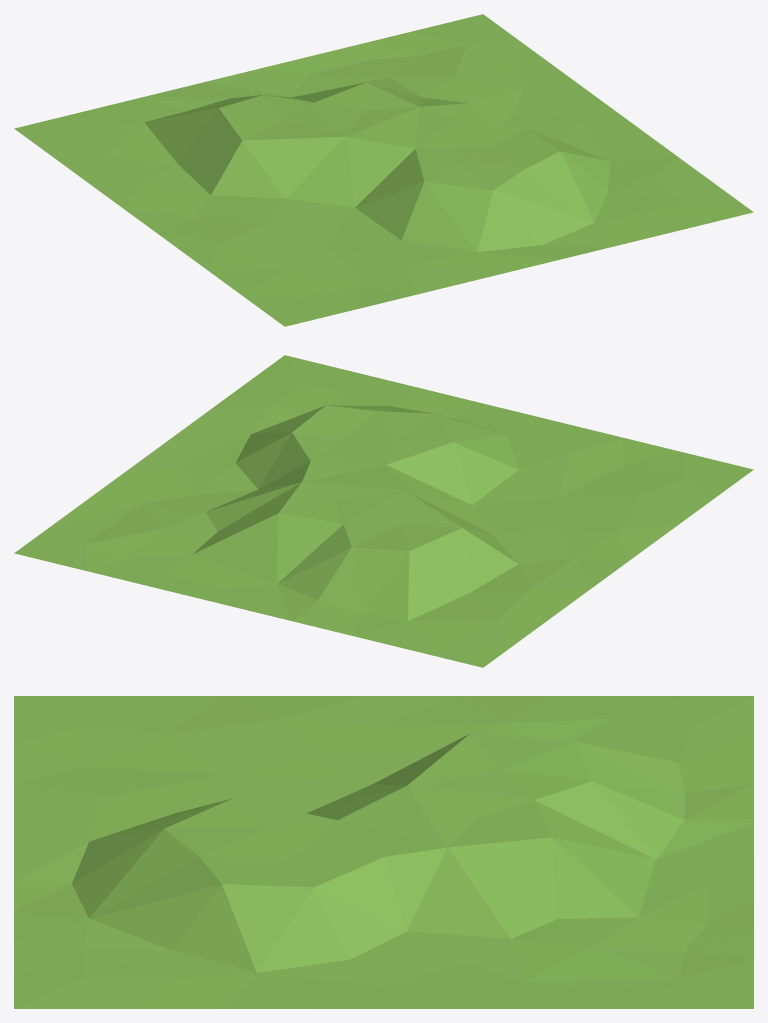
File: MT_Terrain_S_c_05.fbx
The picture shows the model from 3 angles, top to bottom: view 1: azimuth 30°, elevation 25°; view 2: azimuth 150°, elevation 25°; view 3: azimuth 270°, elevation 25°; orthographic projection. The views are drawn at different scales.
Visible parts, largest first — view 1: MT_Terrain_S_c_05; view 2: MT_Terrain_S_c_05; view 3: MT_Terrain_S_c_05.
Part boxes in pixels (bbox=[...]): MT_Terrain_S_c_05: bbox=[14, 14, 753, 326]; MT_Terrain_S_c_05: bbox=[14, 355, 753, 667]; MT_Terrain_S_c_05: bbox=[14, 696, 753, 1008].
Bounding box in the file's own units: 2500 × 185 × 2500.
